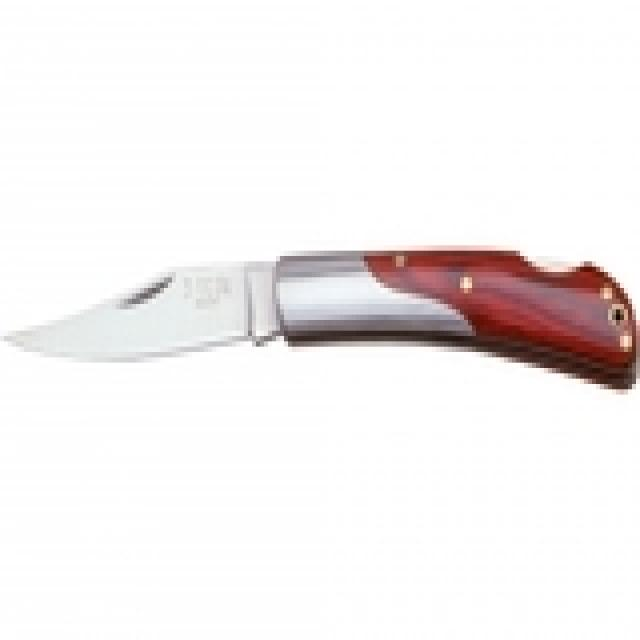Knife: (7, 259, 640, 405)
